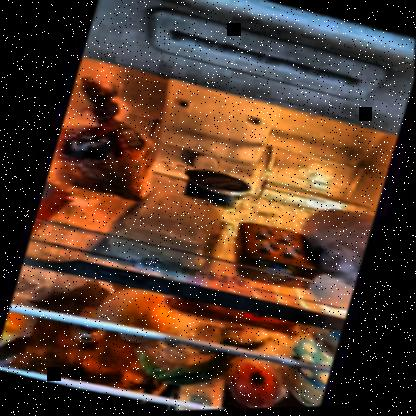butter: (229, 219, 324, 295)
cheese: (119, 189, 222, 267)
green_chillies: (134, 334, 237, 397)
lemon: (115, 291, 179, 338), (2, 312, 32, 349)
milk: (177, 385, 233, 411)
tomato: (228, 359, 290, 410)
yoghurt: (282, 334, 339, 408), (181, 163, 252, 214)
